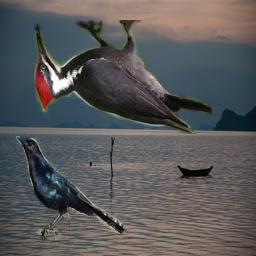Crow: (16, 136, 125, 241)
Woodpecker: (34, 20, 212, 134)
